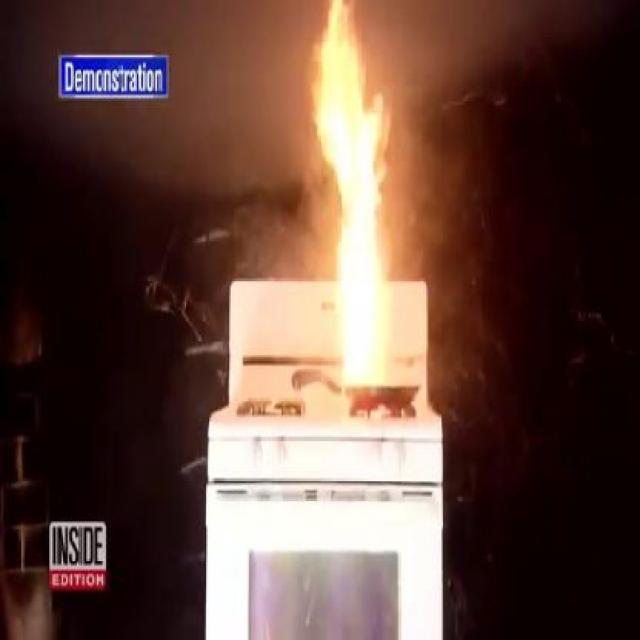fire: (294, 9, 409, 388)
